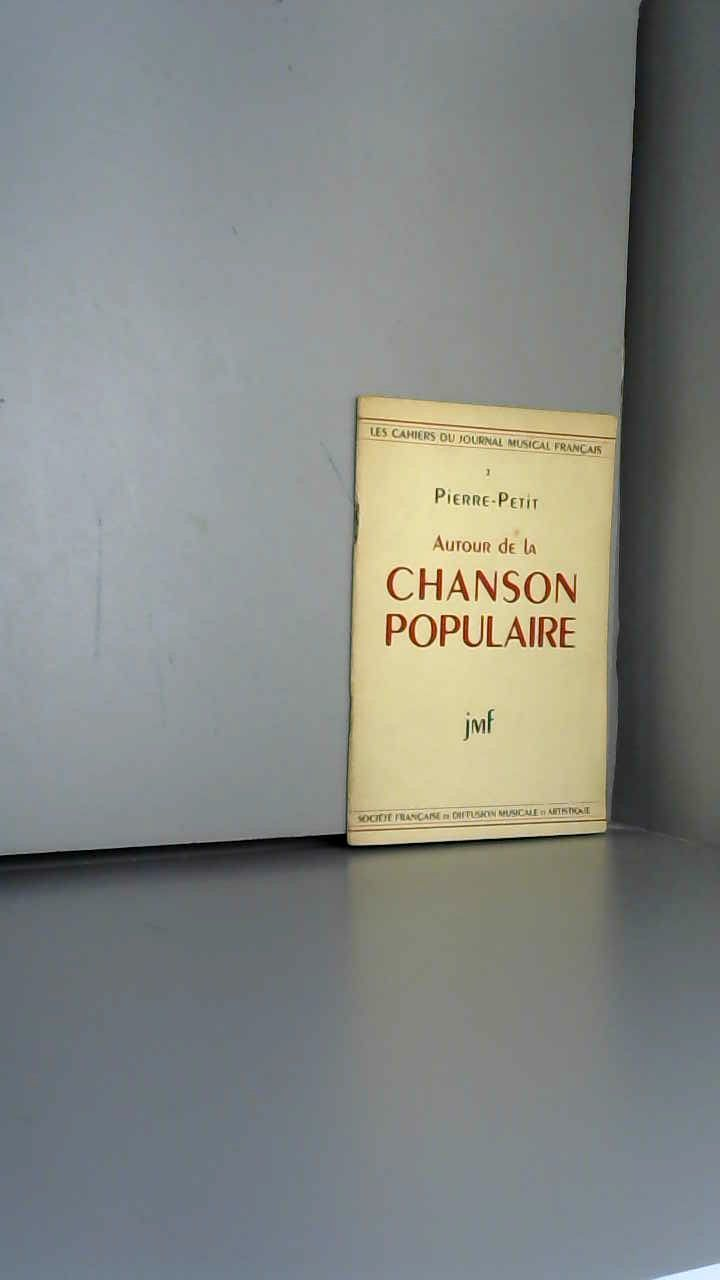book: (320, 370, 715, 901)
